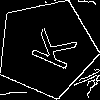K: (21, 23, 78, 72)
